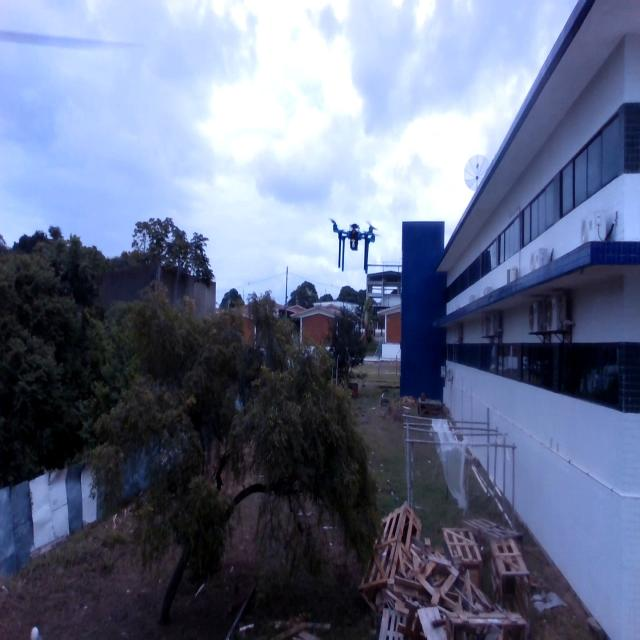-uav-: (326, 210, 384, 280)
